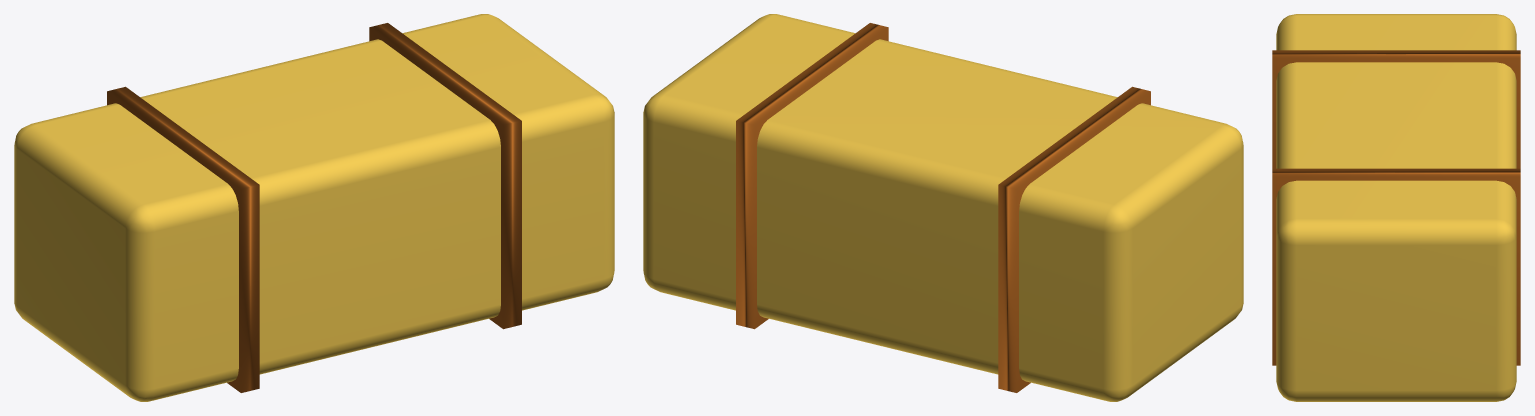
File: haysq_mobile.glb
3 views of the same model, side by side, from view 1: azimuth 30°, elevation 25°; view 2: azimuth 150°, elevation 25°; view 3: azimuth 270°, elevation 25° (orthographic). The views are drawn at different scales.
Visible parts, largest first — view 1: HaySq; view 2: HaySq; view 3: HaySq.
Part boxes in pixels (box(x1,y1,x2,y2)): HaySq: box(14, 14, 614, 401); HaySq: box(643, 14, 1243, 401); HaySq: box(1272, 14, 1520, 401).
Bounding box in the file's own units: 1.3 × 0.52 × 0.62.
